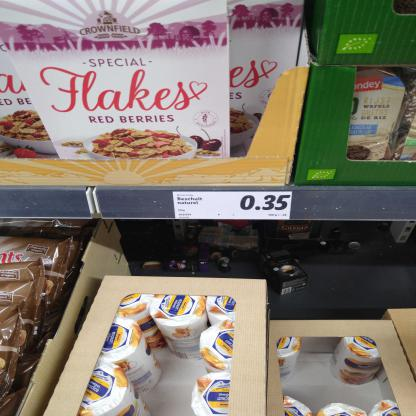prtg: (174, 193, 294, 221)
